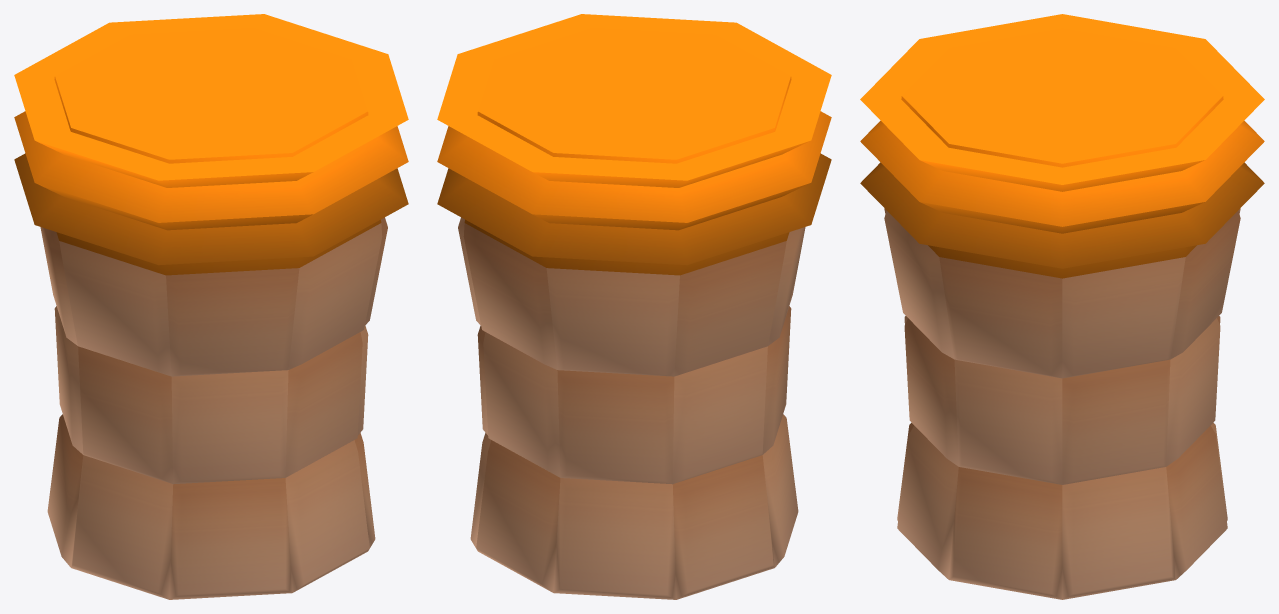
Rendered from bronze_grip_096.glb.
3 renders of one model, left to right at view 1: azimuth 30°, elevation 25°; view 2: azimuth 150°, elevation 25°; view 3: azimuth 270°, elevation 25°, orthographic.
Visible parts, largest first — view 1: bronze_grip_096; view 2: bronze_grip_096; view 3: bronze_grip_096.
Boxes of the visible parts, x1,y1,x2,y2 form: bronze_grip_096: (14,14,408,599); bronze_grip_096: (437,14,831,599); bronze_grip_096: (860,14,1264,599).
Bounding box in the file's own units: 2.52 × 3 × 2.52.
Materials: 1 (1 with a texture image).
